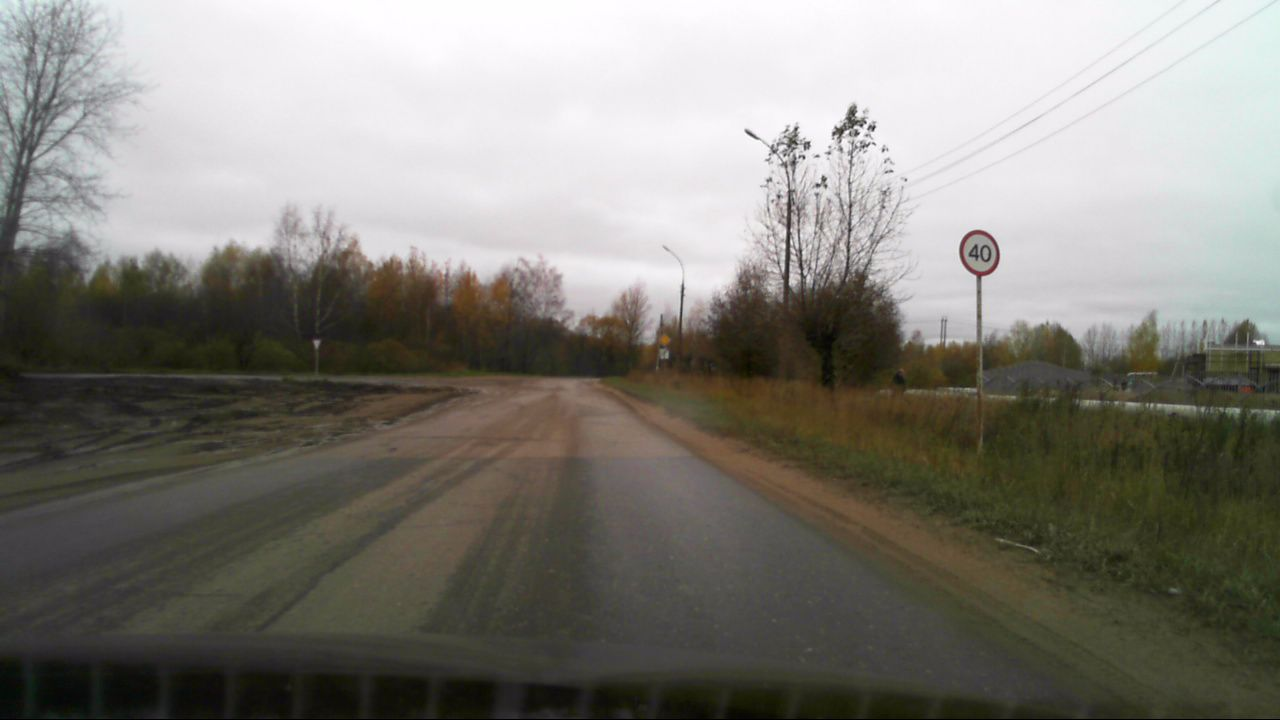speed_warning_40: (958, 228, 1001, 279)
